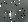person: (5, 11, 11, 20)
